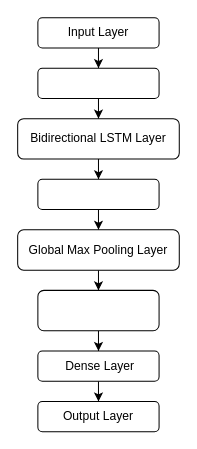
Image size: 197x449. Some labels were removed from this diagram. Here are the shapes that lost their labels. From the top down, the centre of each, then its label:
pixel 98 82: Embedding Layer
pixel 98 194: Convolutional Layer
pixel 98 310: Dropout Layer
